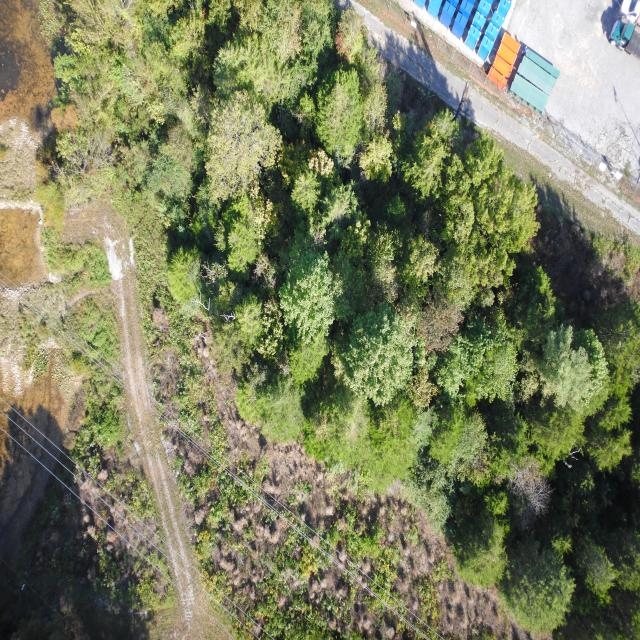Area of Interest: (83, 0, 636, 627)
